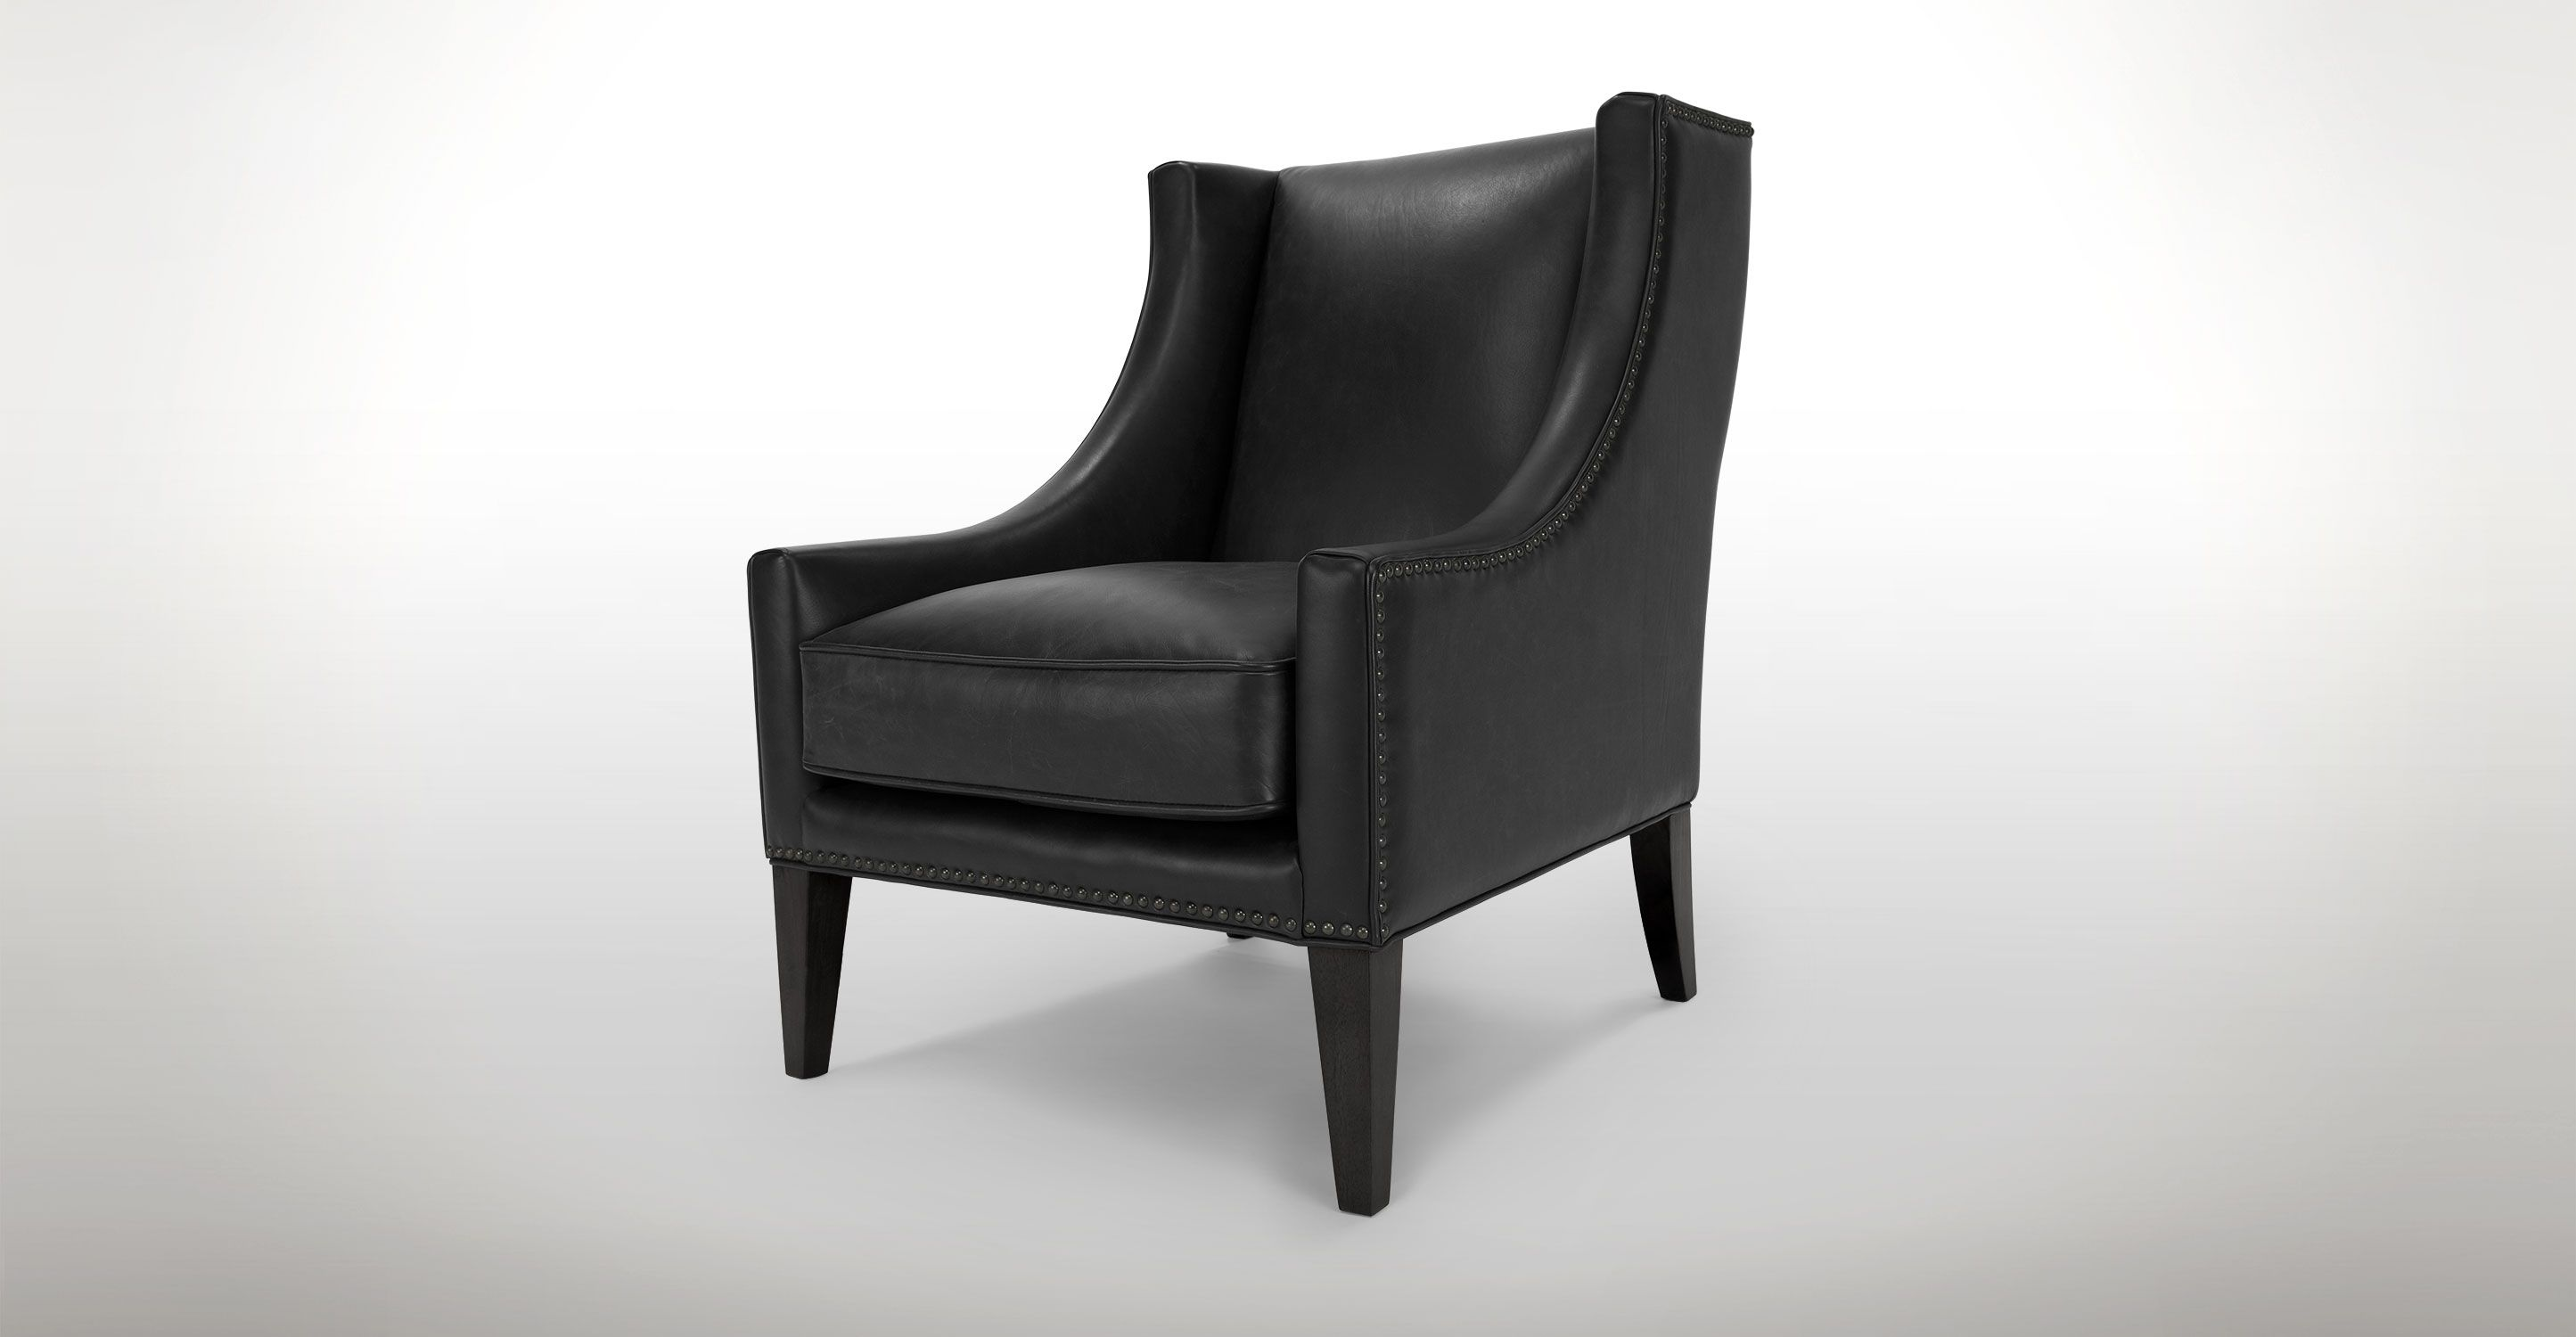chairs: (743, 87, 1762, 1230)
